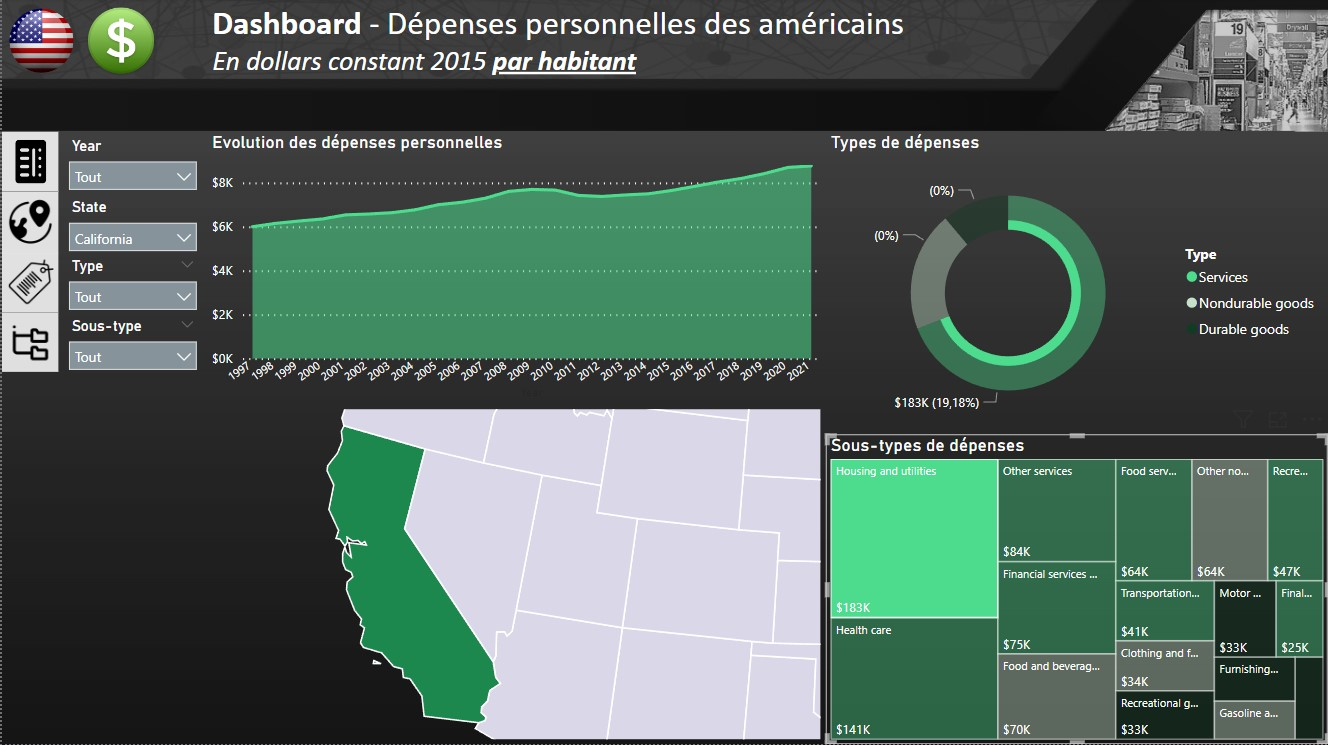

The dashboard page shown, as its layout file describes it:
{"tool":"powerbi","page":{"name":"Par habitant","canvas":[1280,720],"ordinal":1},"visuals":[{"type":"treemap","title":"Sous-types de dépenses","fields":{"Group":["data_1_par_hab_1997_2021_transforme (2).Sous-type"],"Values":["Sum(data_1_par_hab_1997_2021_transforme (2).Value)"]},"box":[794.8,420.9,484.8,299.1],"z":0},{"type":"donutChart","title":"Types de dépenses","fields":{"Category":["data_1_par_hab_1997_2021_transforme (2).Type"],"Y":["Sum(data_1_par_hab_1997_2021_transforme (2).Value)"]},"box":[794.8,129,484.8,291.9],"z":1000},{"type":"image","box":[76.3,0,77.9,82.1],"z":2000},{"type":"textbox","box":[197.8,0,691.1,82],"z":3000},{"type":"shapeMap","fields":{"Category":["data_1_par_hab_1997_2021_transforme (2).State"]},"box":[0,392,794.8,328],"z":4000},{"type":"image","box":[0,186.9,54.3,59.1],"z":5000},{"type":"slicer","fields":{"Values":["data_1_par_hab_1997_2021_transforme (2).Type"]},"box":[53.9,244.6,143.8,57.9],"z":6000},{"type":"image","box":[0,246,54.3,57.9],"z":7000},{"type":"slicer","fields":{"Values":["data_1_par_hab_1997_2021_transforme (2).State"]},"box":[53.9,187.7,143.8,57.9],"z":8000},{"type":"slicer","fields":{"Values":["data_1_par_hab_1997_2021_transforme (2).Year"]},"box":[53.9,128.8,143.8,57.9],"z":9000},{"type":"image","box":[0,129,54.3,57.9],"z":10000},{"type":"slicer","title":"Sous-type","fields":{"Values":["data_1_par_hab_1997_2021_transforme (2).Sous-type"]},"box":[53.9,302.5,143.8,57.9],"z":11000},{"type":"image","box":[0,303.9,54.3,56.7],"z":12000},{"type":"image","box":[0,0,76.3,82.1],"z":13000},{"type":"areaChart","title":"Evolution des dépenses personnelles","fields":{"Y":["Sum(data_1_par_hab_1997_2021_transforme (2).Value)"],"Category":["data_1_par_hab_1997_2021_transforme (2).Year"]},"box":[197.8,129,597,262.9],"z":14000}]}

Visuals, with their boxes in screenshot pixels (x1, y1, x2, y2), scaled from the page's 1280x720 canvas onto the 1328x745 screenshot:
"Sous-types de dépenses" treemap: [x1=825, y1=436, x2=1327, y2=744]
"Types de dépenses" donutChart: [x1=825, y1=133, x2=1327, y2=436]
image: [x1=79, y1=0, x2=160, y2=85]
textbox: [x1=205, y1=0, x2=922, y2=85]
shapeMap - data_1_par_hab_1997_2021_transforme (2).State: [x1=0, y1=406, x2=825, y2=744]
image: [x1=0, y1=193, x2=56, y2=255]
slicer - data_1_par_hab_1997_2021_transforme (2).Type: [x1=56, y1=253, x2=205, y2=313]
image: [x1=0, y1=255, x2=56, y2=314]
slicer - data_1_par_hab_1997_2021_transforme (2).State: [x1=56, y1=194, x2=205, y2=254]
slicer - data_1_par_hab_1997_2021_transforme (2).Year: [x1=56, y1=133, x2=205, y2=193]
image: [x1=0, y1=133, x2=56, y2=193]
"Sous-type" slicer: [x1=56, y1=313, x2=205, y2=373]
image: [x1=0, y1=314, x2=56, y2=373]
image: [x1=0, y1=0, x2=79, y2=85]
"Evolution des dépenses personnelles" areaChart: [x1=205, y1=133, x2=825, y2=406]
